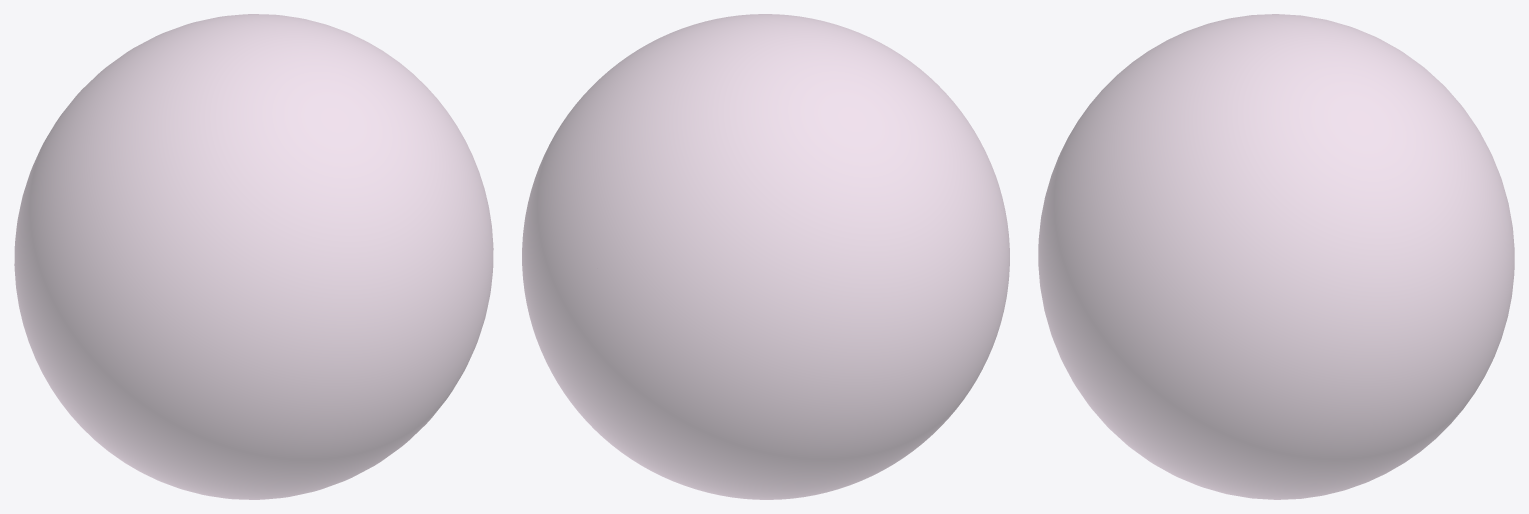
File: bubble-d.gltf
3 renders of one model, left to right at view 1: azimuth 30°, elevation 25°; view 2: azimuth 150°, elevation 25°; view 3: azimuth 270°, elevation 25°, orthographic.
Parts seen in each view (by area): view 1: Soap tiny; view 2: Soap tiny; view 3: Soap tiny.
Boxes of the visible parts, bbox=[...] form: Soap tiny: bbox=[14, 14, 493, 499]; Soap tiny: bbox=[522, 14, 1009, 499]; Soap tiny: bbox=[1038, 14, 1514, 499].
Bounding box in the file's own units: 2.27 × 2.28 × 2.23.
